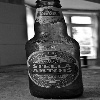beer: (26, 1, 83, 95)
